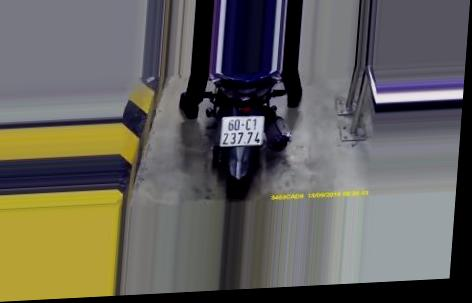License_Plate: (214, 112, 269, 151)
